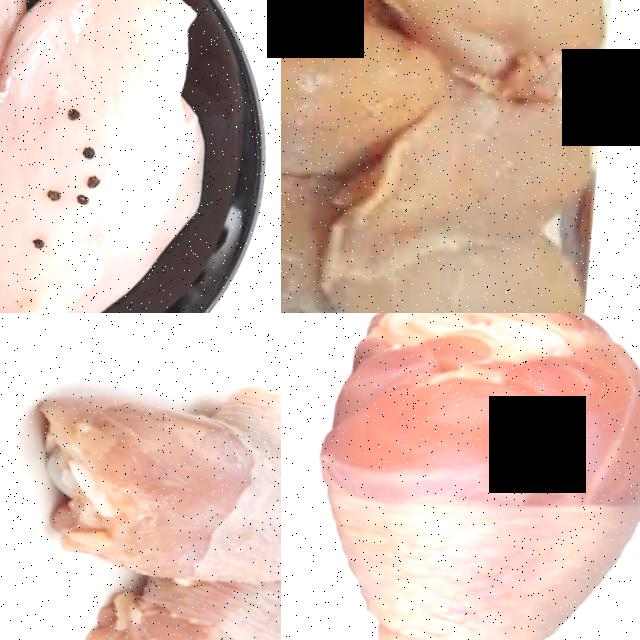chicken breast: (0, 0, 271, 313), (337, 100, 592, 313), (343, 0, 640, 90), (281, 0, 354, 313)
chicken thigh: (281, 313, 640, 640), (3, 378, 281, 635), (41, 557, 281, 640)
